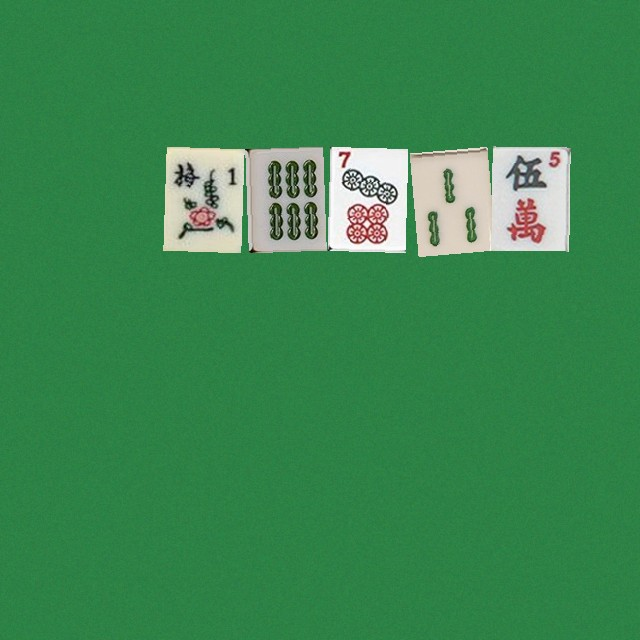tile: (163, 146, 241, 250), (245, 146, 323, 250), (327, 146, 405, 250), (409, 146, 487, 250), (491, 146, 569, 250)
